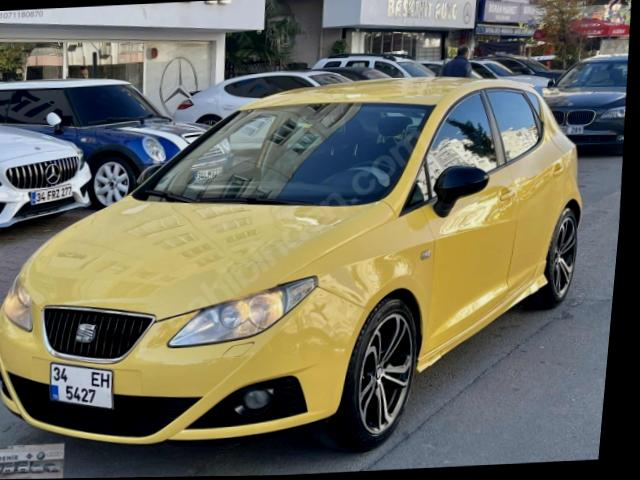plaka: (49, 363, 113, 409), (30, 184, 72, 205)
